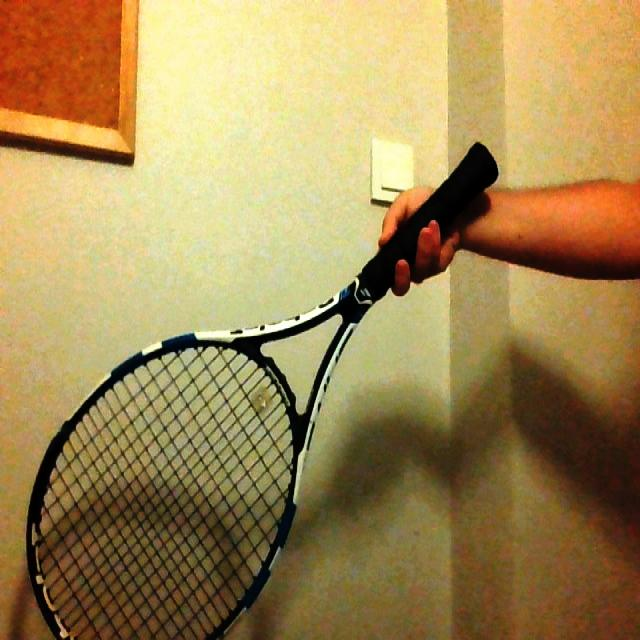TennisRacket: (30, 140, 499, 640)
